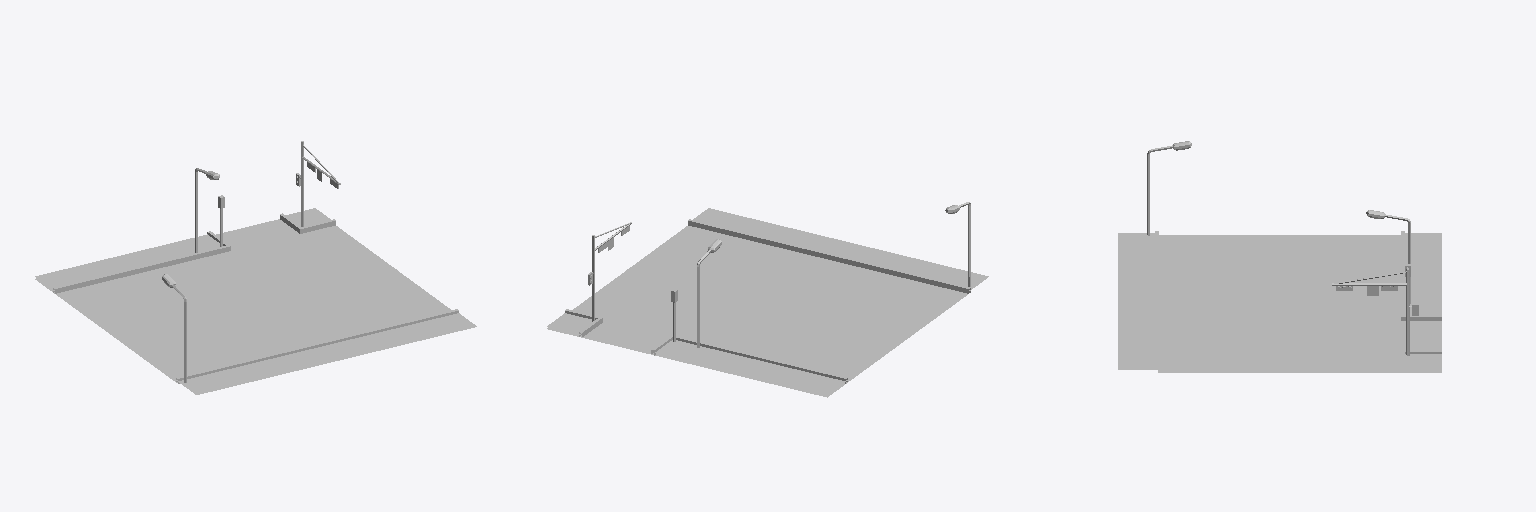
Rendered from city1.obj.
3 renders of one model, left to right at view 1: azimuth 30°, elevation 25°; view 2: azimuth 150°, elevation 25°; view 3: azimuth 270°, elevation 25°, orthographic.
Parts seen in each view (by area): view 1: road_tile_2x2_3_Plane.1483; view 2: road_tile_2x2_3_Plane.1483; view 3: road_tile_2x2_3_Plane.1483.
Boxes of the visible parts, <box> form: road_tile_2x2_3_Plane.1483: <box>35,141,476,394</box>; road_tile_2x2_3_Plane.1483: <box>547,202,988,397</box>; road_tile_2x2_3_Plane.1483: <box>1118,141,1441,372</box>.
Bounding box in the file's own units: 0.08 × 0.0262 × 0.08.